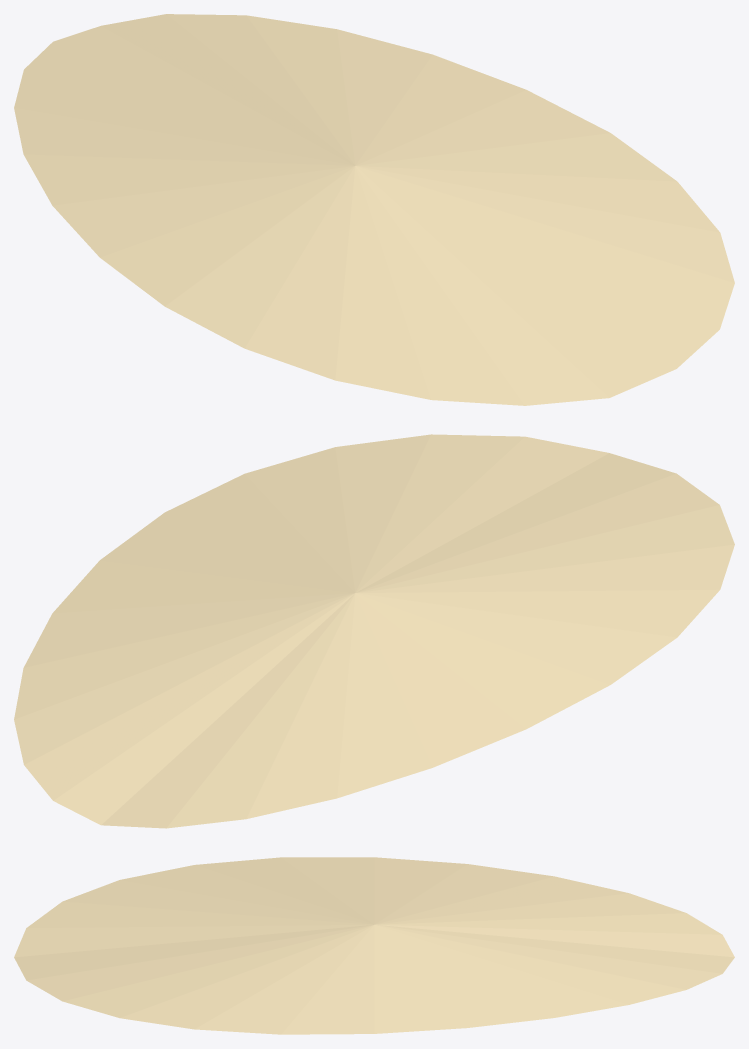
File: autumn-leaf.glb
The picture shows the model from 3 angles, top to bottom: view 1: azimuth 30°, elevation 25°; view 2: azimuth 150°, elevation 25°; view 3: azimuth 270°, elevation 25°; orthographic projection. The views are drawn at different scales.
Visible parts, largest first — view 1: Autumn leaf; view 2: Autumn leaf; view 3: Autumn leaf.
Boxes of the visible parts, box(x1,y1,x2,y2) form: Autumn leaf: box(14, 14, 734, 405); Autumn leaf: box(14, 434, 734, 828); Autumn leaf: box(14, 857, 734, 1034).
Size of the model in its own units: 0.582 by 0.05 by 1.
